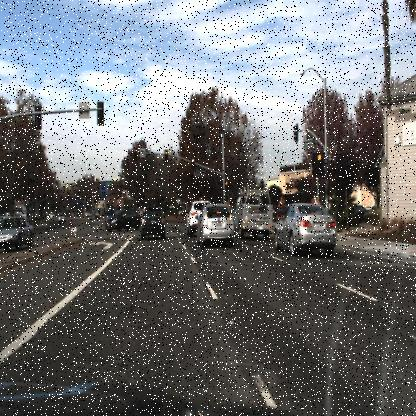car: (273, 201, 336, 260), (232, 182, 272, 240), (231, 190, 276, 234), (196, 206, 234, 248), (0, 217, 35, 253), (186, 196, 212, 236), (104, 206, 141, 234), (104, 204, 138, 234), (139, 208, 166, 242), (140, 206, 168, 238), (183, 200, 205, 240), (105, 204, 118, 226), (106, 207, 117, 226), (56, 209, 67, 226)
trafficLight: (224, 178, 229, 192)
trafficLight-Red: (315, 146, 325, 180), (314, 151, 324, 173), (223, 175, 230, 195), (164, 147, 171, 163), (190, 154, 197, 170), (163, 146, 169, 164), (190, 155, 197, 169)
trafficLight-RedLeft: (132, 146, 139, 164), (131, 143, 139, 158)
